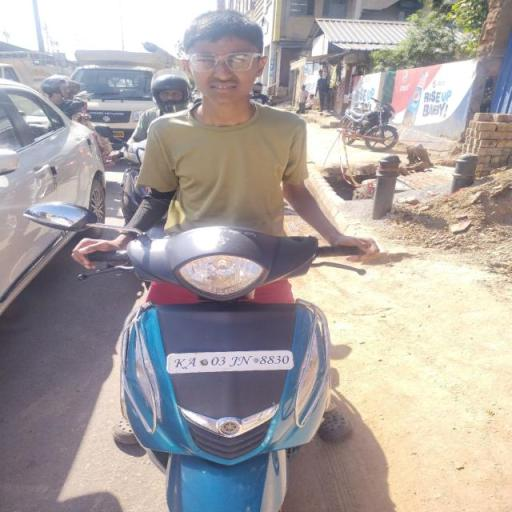bike: (19, 2, 391, 512)
numberplate: (163, 352, 291, 374)
withouthelmet: (182, 11, 266, 104)
